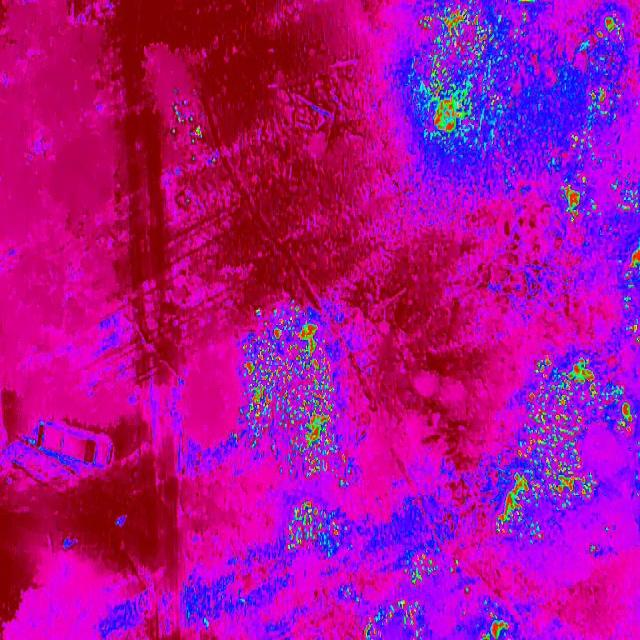fire: (403, 0, 640, 165), (503, 353, 640, 548), (238, 308, 355, 487), (401, 540, 471, 595), (280, 497, 349, 552), (363, 595, 435, 640), (617, 233, 640, 339), (554, 180, 598, 225), (476, 607, 515, 640)
